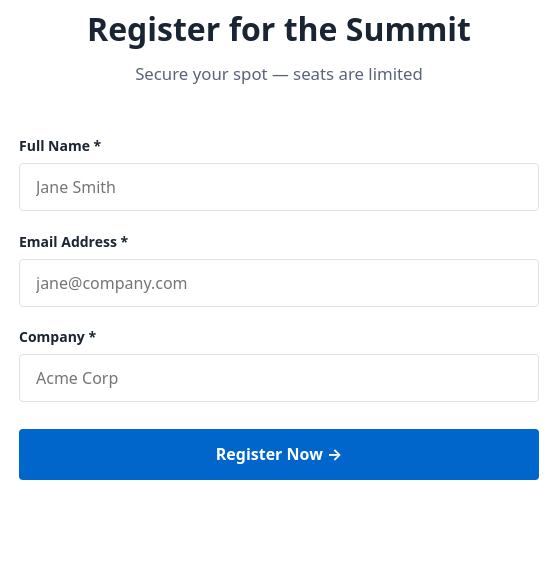
Scenario: Registration › clears name error when user types in name field
Click the button "Register Now →" at (279, 454), box [19,429,539,480]
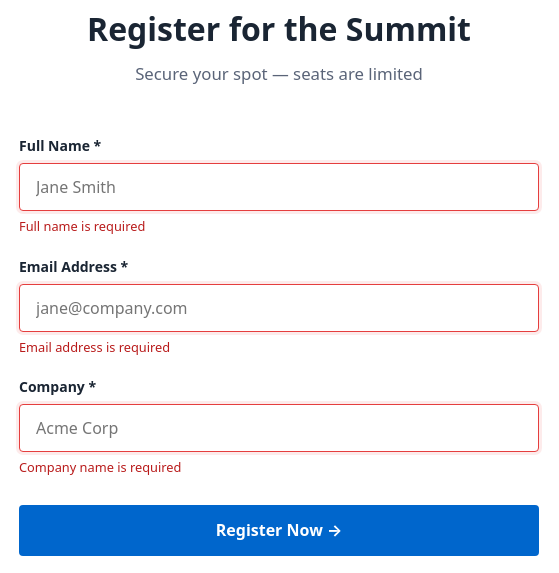
Result: the text "Full name is required" is shown at [19,217,145,235]
Type "J" into the field labelled "Full Name *" at (279, 187), box [19,163,539,211]
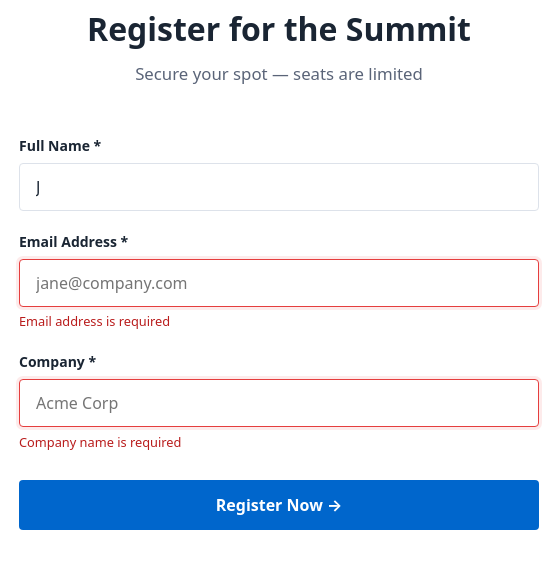
Result: the text "Full name is required" is gone
